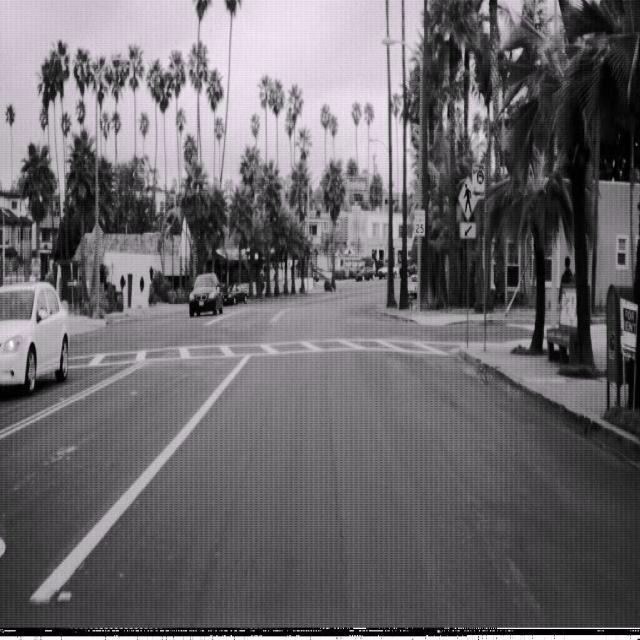pedestrianCrossing: (456, 174, 478, 221)
speedLimit25: (413, 207, 426, 237)
